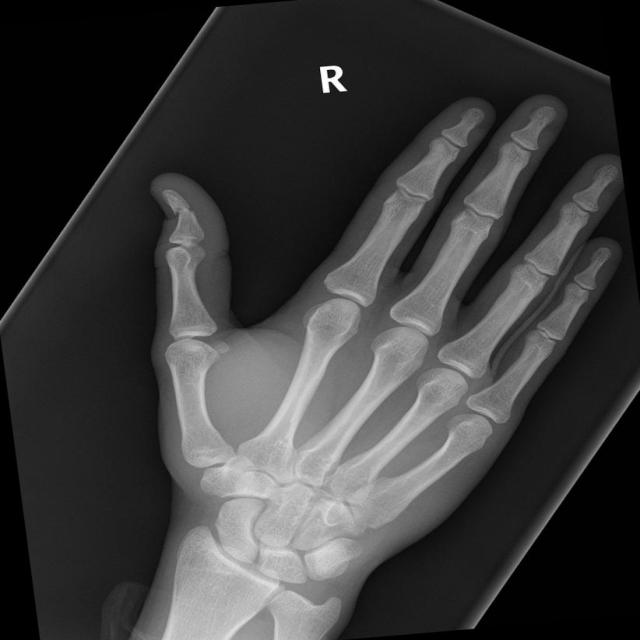Transverse Displaced: (141, 159, 227, 252)
